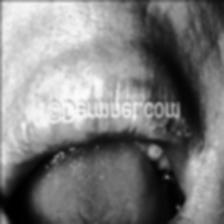Potentially Malignant Skin Tumors: (154, 110, 194, 139)
